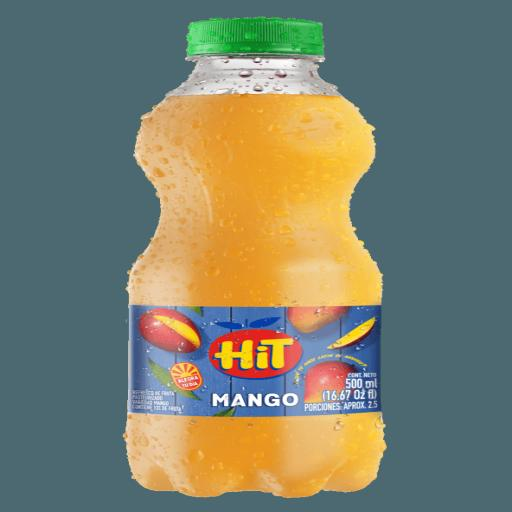JugoHM: (76, 0, 433, 503)
